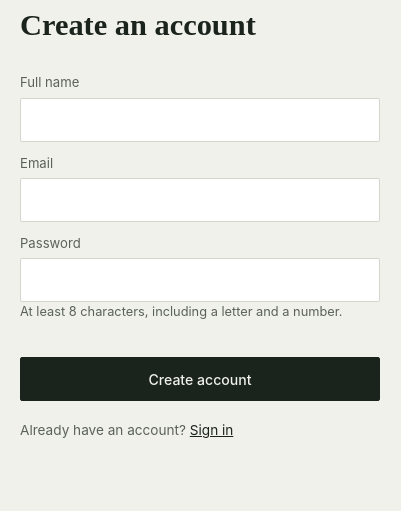
RegisterPage validation › rejects a password shorter than eight characters
Type "Thandi Nkosi" into the field labelled "Full name".
click(200, 120); type("Thandi Nkosi")  # box [20, 98, 380, 142]
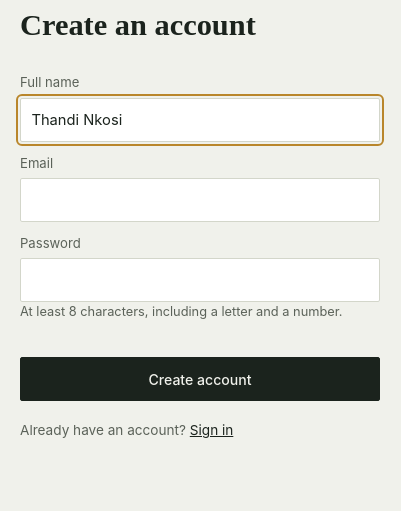
Type "thandi@example.test" into the field labelled "Email".
click(200, 200); type("thandi@example.test")  # box [20, 178, 380, 222]
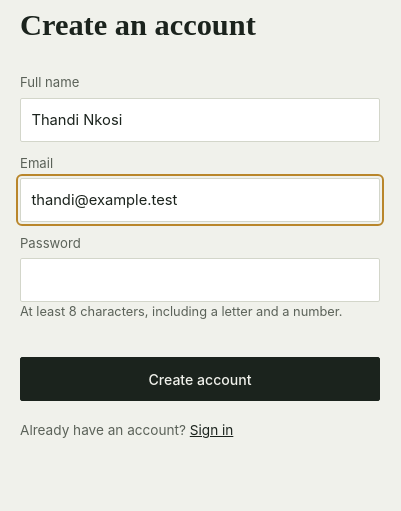
Type "short7" into the password field labelled "Password".
click(200, 280); type("short7")  # box [20, 258, 380, 302]
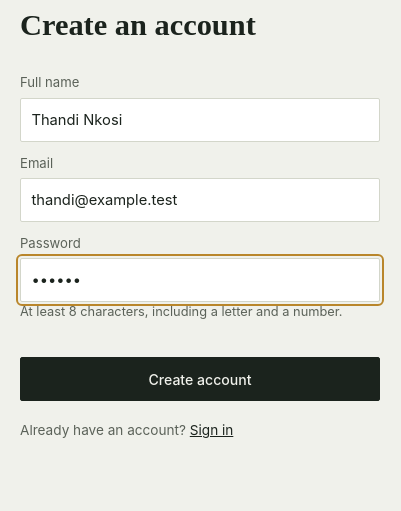
Click the button "Create account".
click(200, 379)  # box [20, 357, 380, 401]
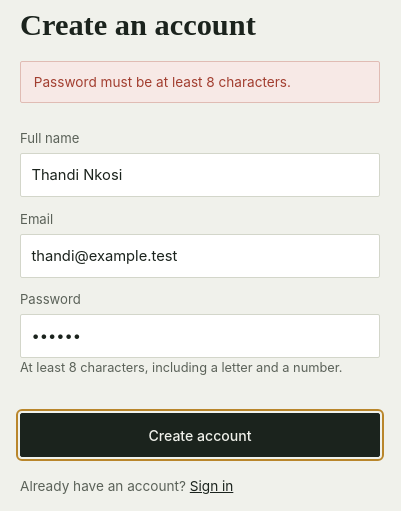
Result: the message reads "Password must be at least 8 characters." at [34, 74, 291, 90]
